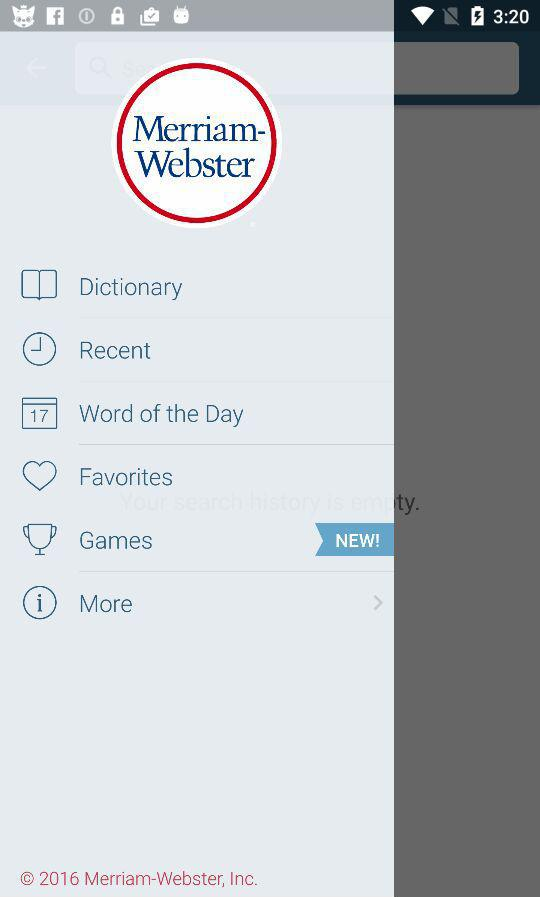Drawer: (1, 32, 394, 897)
Icon: (18, 267, 59, 302), (21, 396, 60, 431), (21, 331, 58, 367), (22, 585, 58, 621), (22, 459, 60, 492), (371, 592, 383, 612)
Image: (111, 58, 284, 230), (22, 522, 60, 557)
Text: (79, 402, 245, 428), (19, 870, 257, 888), (79, 275, 185, 303), (78, 466, 175, 488), (80, 529, 153, 551), (79, 340, 153, 361), (79, 594, 134, 615)
TextButton: (314, 523, 394, 556)
UpperTaskBar: (1, 1, 540, 33)
